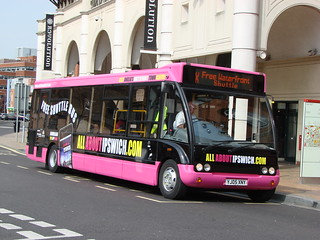bus: (25, 61, 280, 199)
